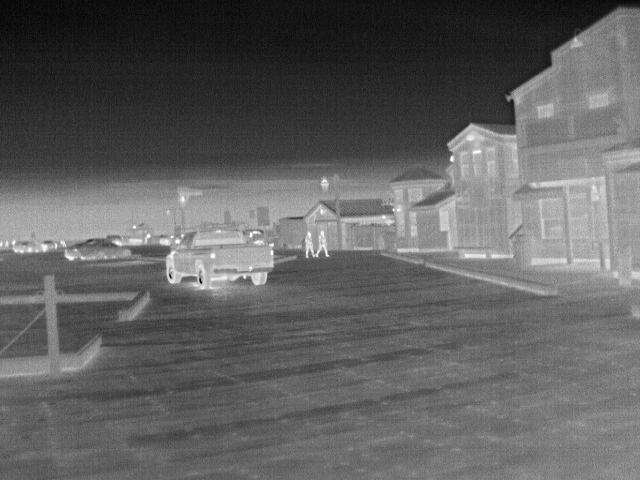car: (164, 227, 276, 289), (79, 236, 134, 262), (19, 240, 45, 256), (63, 242, 85, 260), (42, 239, 64, 251)
person: (301, 229, 318, 258), (318, 226, 333, 257)
